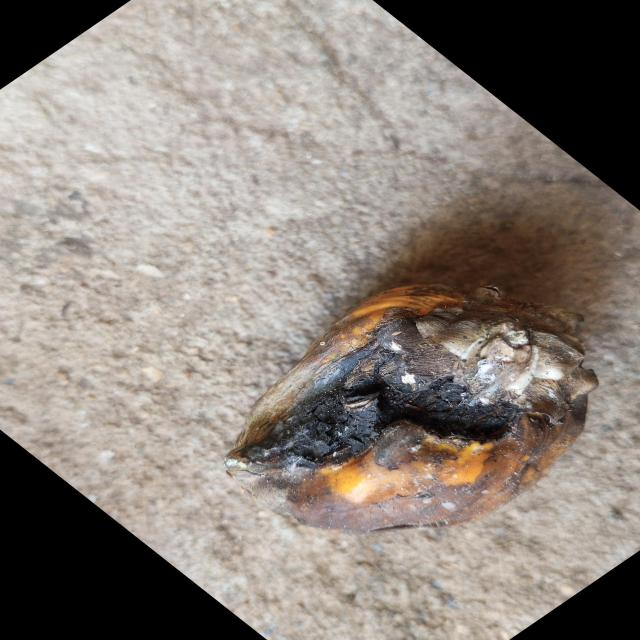damaged: (225, 280, 596, 535)
